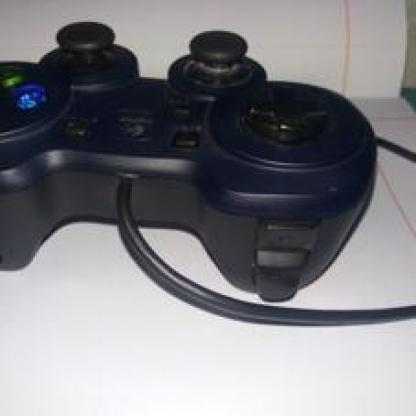gamepad: (0, 22, 414, 321)
